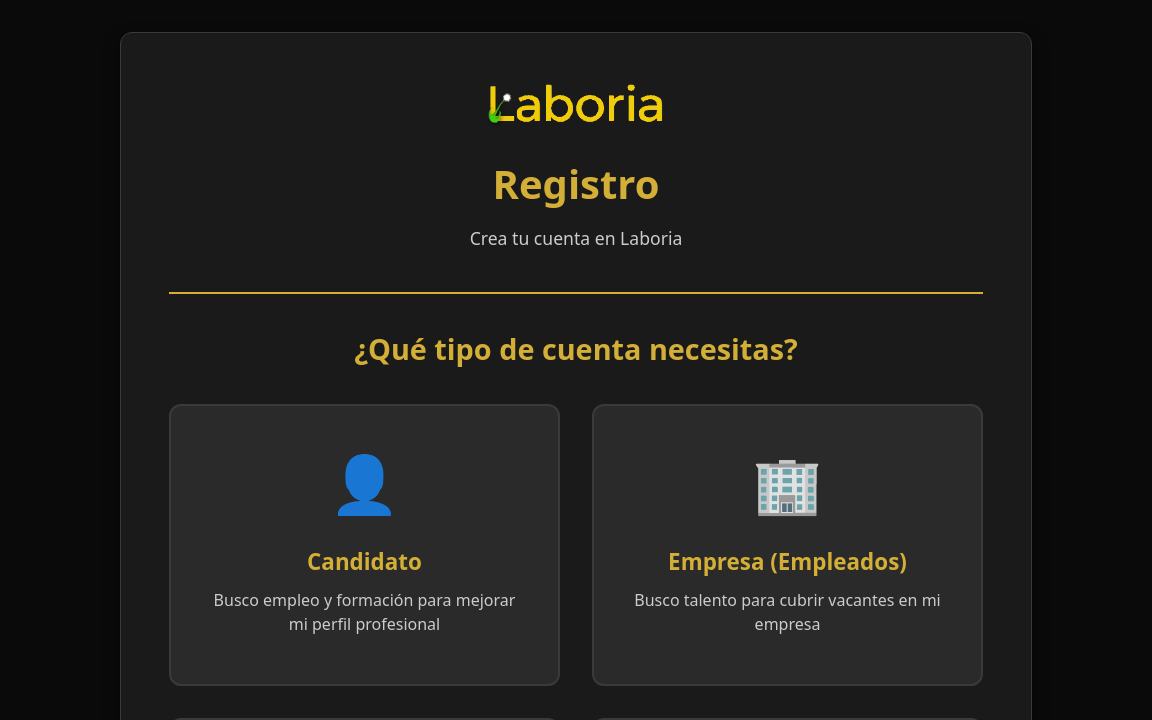
RegisterPage › muestra campos específicos para empresa
Click the heading "Empresa (Empleados)" at (788, 561), box [668,546,907,577]
(page scrolled)
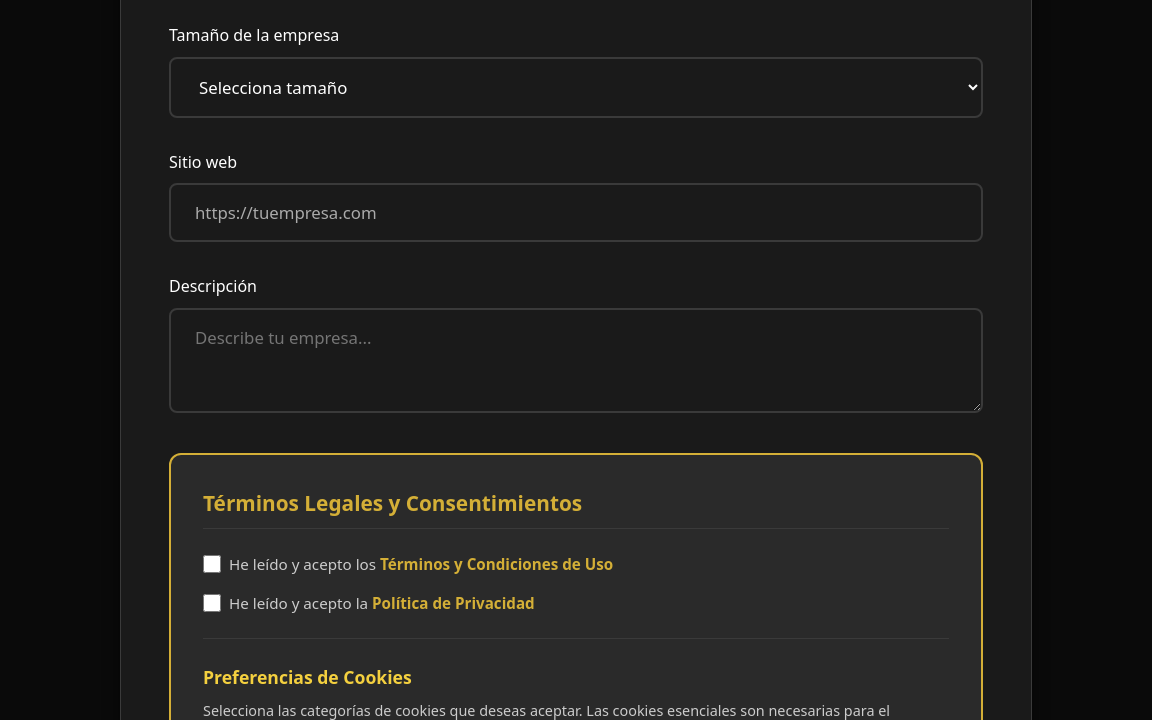
Now the dropdown labelled "Tamaño de la empresa" is shown, box [169,57,983,118]
Now the field labelled "Sitio web" is shown, box [169,183,983,242]
Now the text box labelled "Descripción" is shown, box [169,308,983,413]
